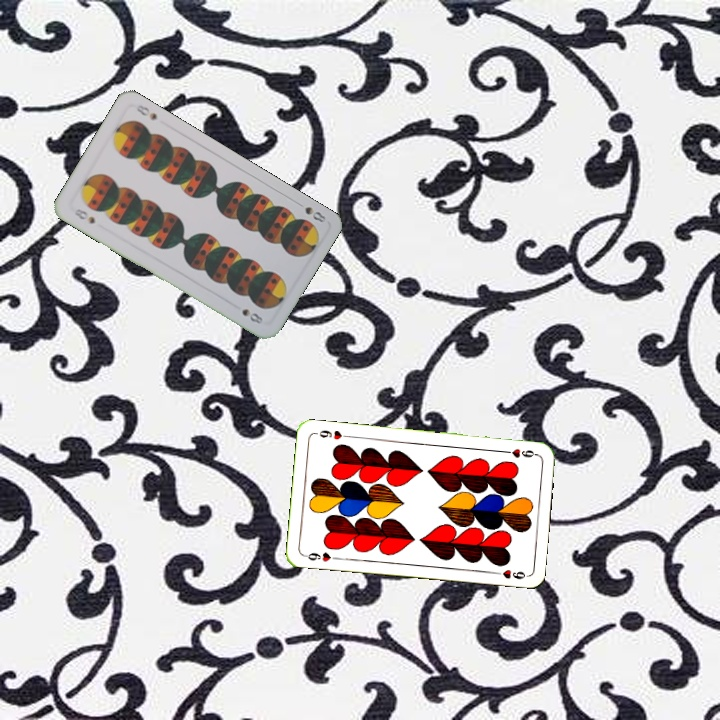H9: (300, 548, 341, 564), (499, 444, 540, 460)
S8: (292, 197, 328, 225), (70, 204, 98, 226)
